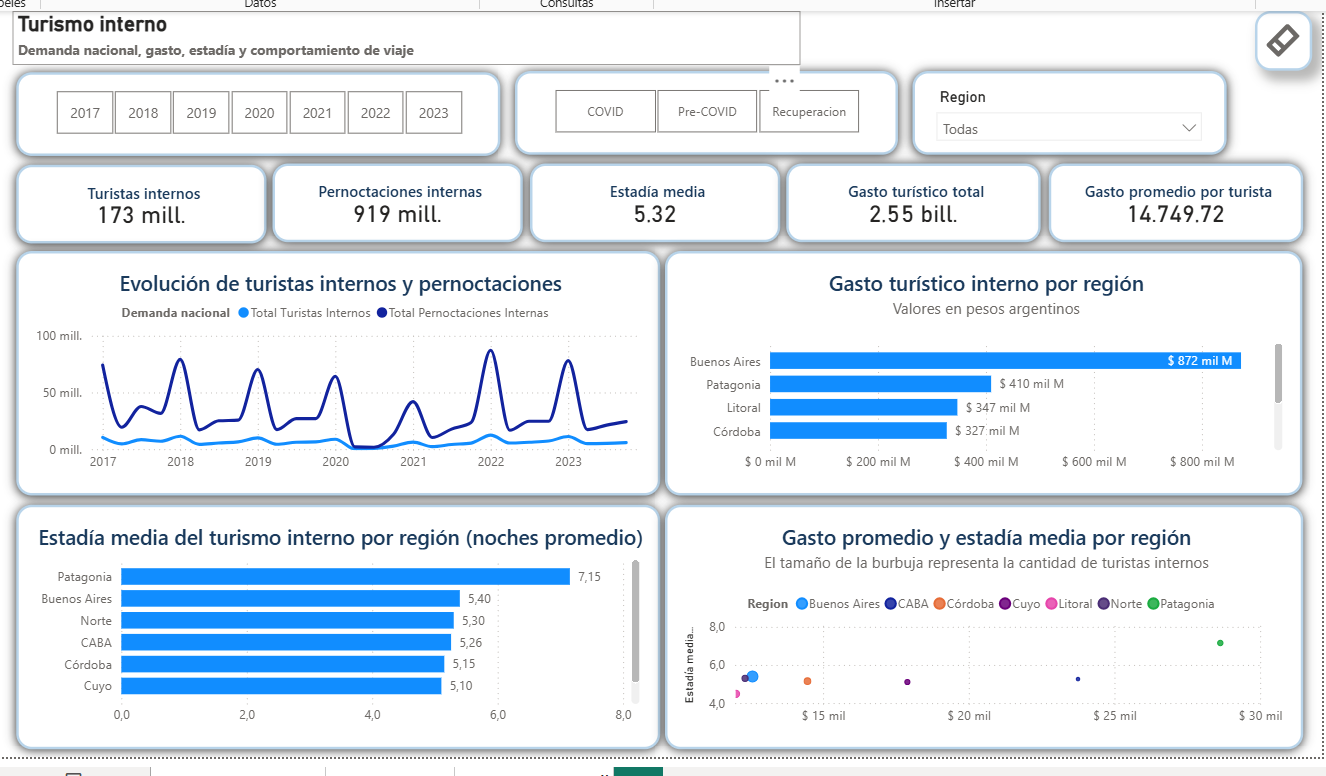

The dashboard page shown, as its layout file describes it:
{"tool":"powerbi","page":{"name":"Turismo Interno","canvas":[1280,720],"ordinal":2},"visuals":[{"type":"slicer","title":"Año","fields":{"Values":["DIM_Fecha.Anio"]},"box":[20.1,59,467.4,80.5],"z":0},{"type":"slicer","title":"Región","fields":{"Values":["DIM_Region.Region"]},"box":[885.9,57.7,303,80.8],"z":1000},{"type":"slicer","title":"Período COVID","fields":{"Values":["DIM_Fecha.Periodo_Covid"]},"box":[501.9,57.5,369.6,80.5],"z":2000},{"type":"textbox","title":"Turismo interno","box":[17.3,0,759.4,51.8],"z":3000},{"type":"card","title":"Turistas internos","fields":{"Values":["MEDIDAS_TurismoInterno.Total Turistas Internos"]},"box":[20.1,148.1,241.6,76.2],"z":4000},{"type":"card","title":"Pernoctaciones internas","fields":{"Values":["MEDIDAS_TurismoInterno.Total Pernoctaciones Internas"]},"box":[267.5,146.7,241.6,76.2],"z":5000},{"type":"card","title":"Estadía media","fields":{"Values":["MEDIDAS_TurismoInterno.Estadía Media Turismo Interno"]},"box":[516.3,146.7,241.6,76.2],"z":6000},{"type":"card","title":"Gasto turístico total","fields":{"Values":["MEDIDAS_TurismoInterno.Total Gasto Turístico"]},"box":[763.7,146.7,245.9,76.2],"z":7000},{"type":"card","title":"Gasto promedio por turista","fields":{"Values":["MEDIDAS_TurismoInterno.Gasto Promedio por Turista"]},"box":[1016.8,146.7,245.9,76.2],"z":8000},{"type":"lineChart","title":"Evolución de turistas internos y pernoctaciones","fields":{"Category":["DIM_Fecha.Fecha"],"Y":["MEDIDAS_TurismoInterno.Total Turistas Internos","MEDIDAS_TurismoInterno.Total Pernoctaciones Internas"]},"box":[20.1,231.6,621.3,235.9],"z":9000},{"type":"clusteredBarChart","title":"Gasto turístico interno por región","fields":{"Category":["DIM_Region.Region"],"Y":["MEDIDAS_TurismoInterno.Total Gasto Turístico"]},"box":[647.2,231.6,615.6,235.9],"z":10000},{"type":"clusteredBarChart","title":"Estadía media del turismo interno por región (noches promedio)","fields":{"Category":["DIM_Region.Region"],"Y":["MEDIDAS_TurismoInterno.Estadía Media Turismo Interno"]},"box":[20.1,476,621.3,235.9],"z":11000},{"type":"scatterChart","title":"Gasto promedio y estadía media por región","fields":{"Category":["DIM_Region.Region"],"Series":["DIM_Region.Region"],"Size":["MEDIDAS_TurismoInterno.Total Turistas Internos"],"X":["MEDIDAS_TurismoInterno.Gasto Promedio por Turista"],"Y":["MEDIDAS_TurismoInterno.Estadía Media Turismo Interno"]},"box":[647,476,616,236],"z":12000},{"type":"actionButton","box":[1216.5,0,55.4,57.4],"z":13000}]}

Visuals, with their boxes on the page's 1280x720 design canvas (x1, y1, x2, y2). These are canvas units, not pixel positions in the 1326x776 screenshot, which may show the page scaled, cropped or inside an application window:
"Año" slicer: [left=20, top=59, right=488, bottom=140]
"Región" slicer: [left=886, top=58, right=1189, bottom=138]
"Período COVID" slicer: [left=502, top=58, right=872, bottom=138]
"Turismo interno" textbox: [left=17, top=0, right=777, bottom=52]
"Turistas internos" card: [left=20, top=148, right=262, bottom=224]
"Pernoctaciones internas" card: [left=268, top=147, right=509, bottom=223]
"Estadía media" card: [left=516, top=147, right=758, bottom=223]
"Gasto turístico total" card: [left=764, top=147, right=1010, bottom=223]
"Gasto promedio por turista" card: [left=1017, top=147, right=1263, bottom=223]
"Evolución de turistas internos y pernoctaciones" lineChart: [left=20, top=232, right=641, bottom=468]
"Gasto turístico interno por región" clusteredBarChart: [left=647, top=232, right=1263, bottom=468]
"Estadía media del turismo interno por región (noches promedio)" clusteredBarChart: [left=20, top=476, right=641, bottom=712]
"Gasto promedio y estadía media por región" scatterChart: [left=647, top=476, right=1263, bottom=712]
actionButton: [left=1216, top=0, right=1272, bottom=57]
